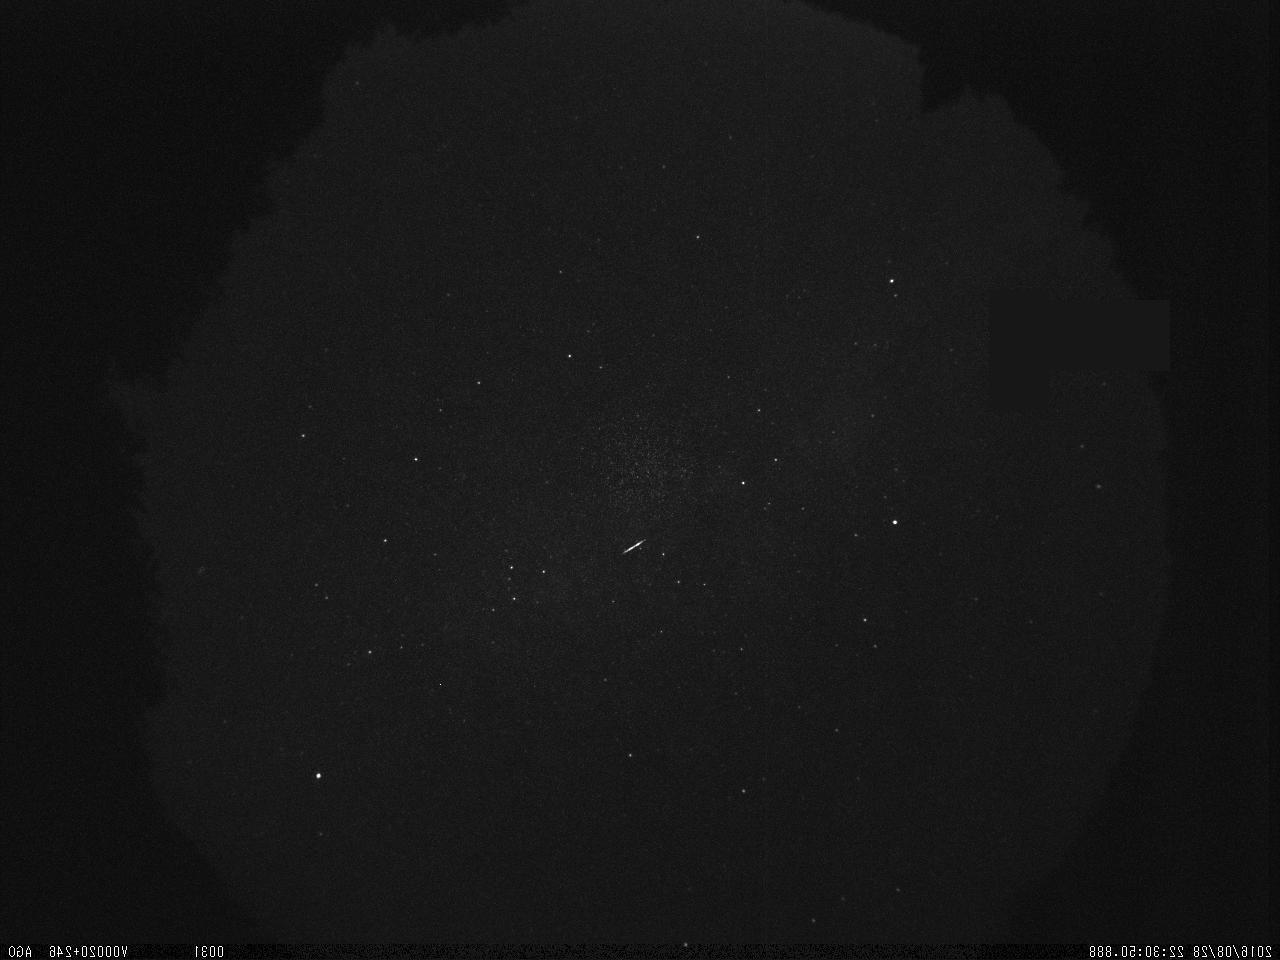meteor: (598, 520, 667, 568)
